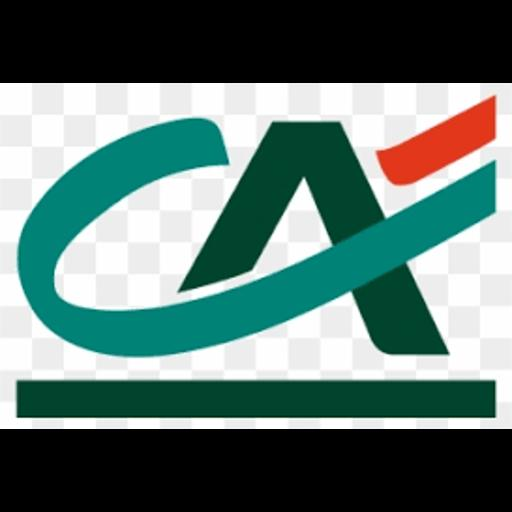Credit Agricole S-A: (0, 83, 512, 429)
